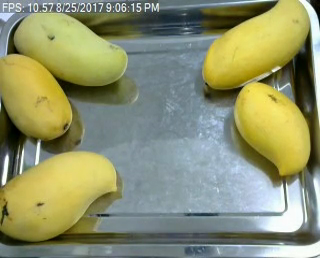Mango: (0, 149, 119, 246), (201, 1, 309, 92), (8, 8, 131, 87), (230, 81, 313, 177), (0, 50, 75, 142)
